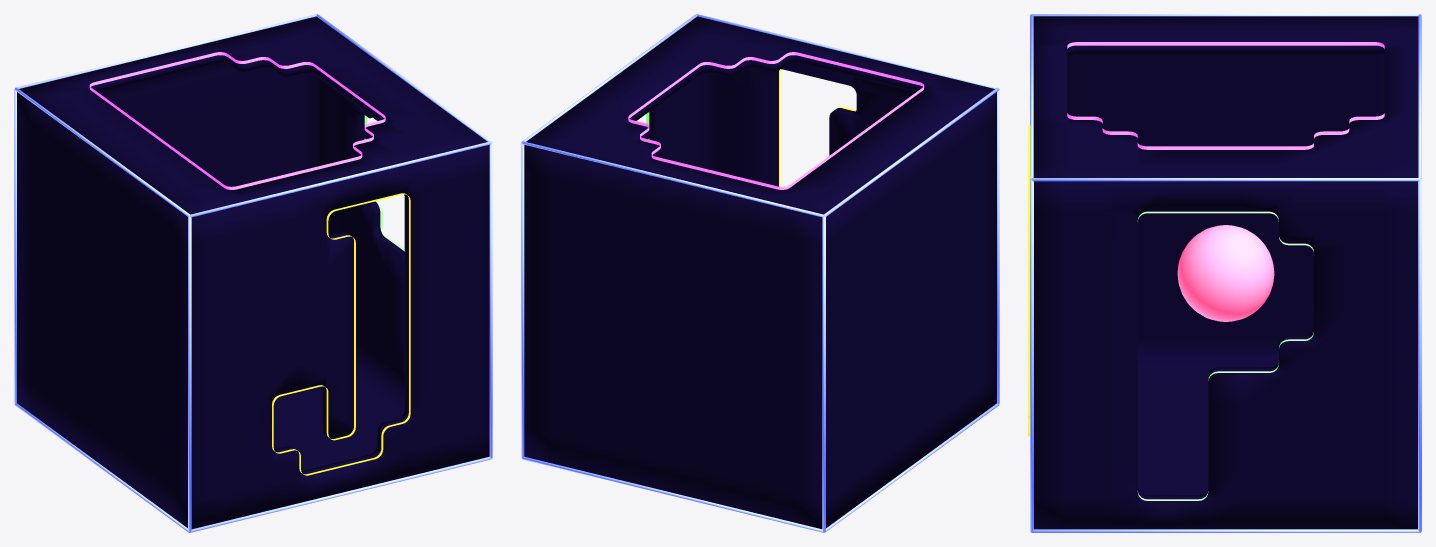
3 views of the same model, side by side, from view 1: azimuth 30°, elevation 25°; view 2: azimuth 150°, elevation 25°; view 3: azimuth 270°, elevation 25° (orthographic). The views are drawn at different scales.
Visible parts, largest first — view 1: Cube; view 2: Cube; view 3: Cube.
Part boxes in pixels (x1,y1,x2,y2): Cube: [14, 14, 492, 532]; Cube: [521, 14, 999, 532]; Cube: [1028, 14, 1421, 532].
Size of the model in its own units: 2.03 by 2.03 by 2.03.
